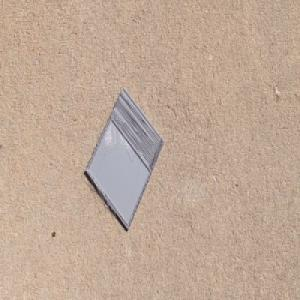PlasticPart: (85, 86, 165, 231)
